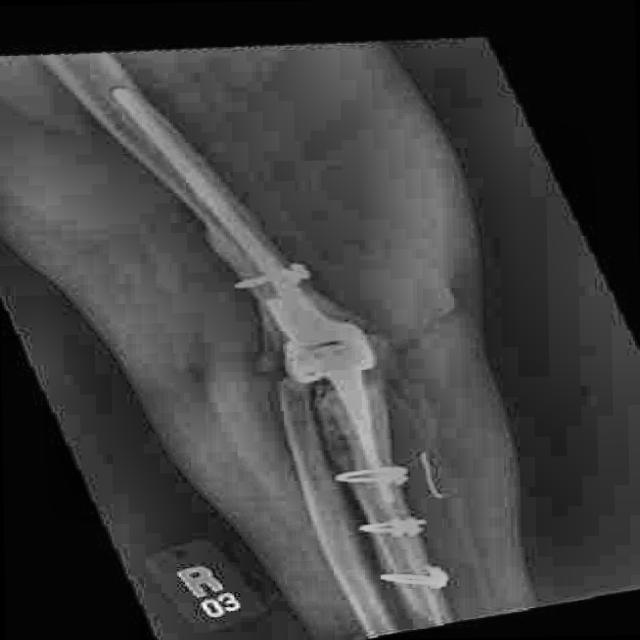elbow positive: (232, 305, 413, 386)
